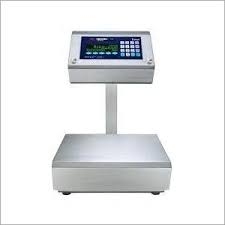Industrial Scale: (50, 30, 174, 197)
